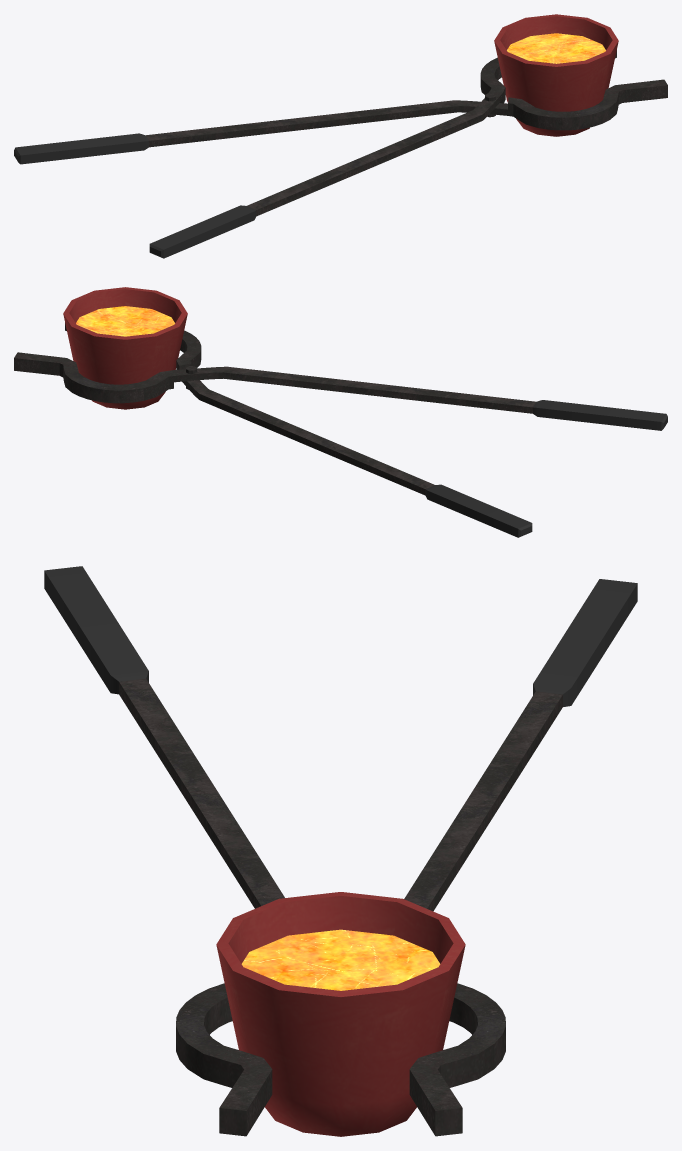
File: Tongs_BlacksmithCrucibleMolten.glb
3 views of the same model, one above another, from view 1: azimuth 30°, elevation 25°; view 2: azimuth 150°, elevation 25°; view 3: azimuth 270°, elevation 25° (orthographic). The views are drawn at different scales.
Visible parts, largest first — view 1: Tongs_BlackmithCrucibleMolten; view 2: Tongs_BlackmithCrucibleMolten; view 3: Tongs_BlackmithCrucibleMolten.
Part boxes in pixels (bbox=[...]): Tongs_BlackmithCrucibleMolten: bbox=[14, 14, 667, 258]; Tongs_BlackmithCrucibleMolten: bbox=[14, 287, 667, 537]; Tongs_BlackmithCrucibleMolten: bbox=[44, 566, 637, 1136].
Size of the model in its own units: 5.03 by 0.6961 by 2.32.
1 material, 1 textured.
